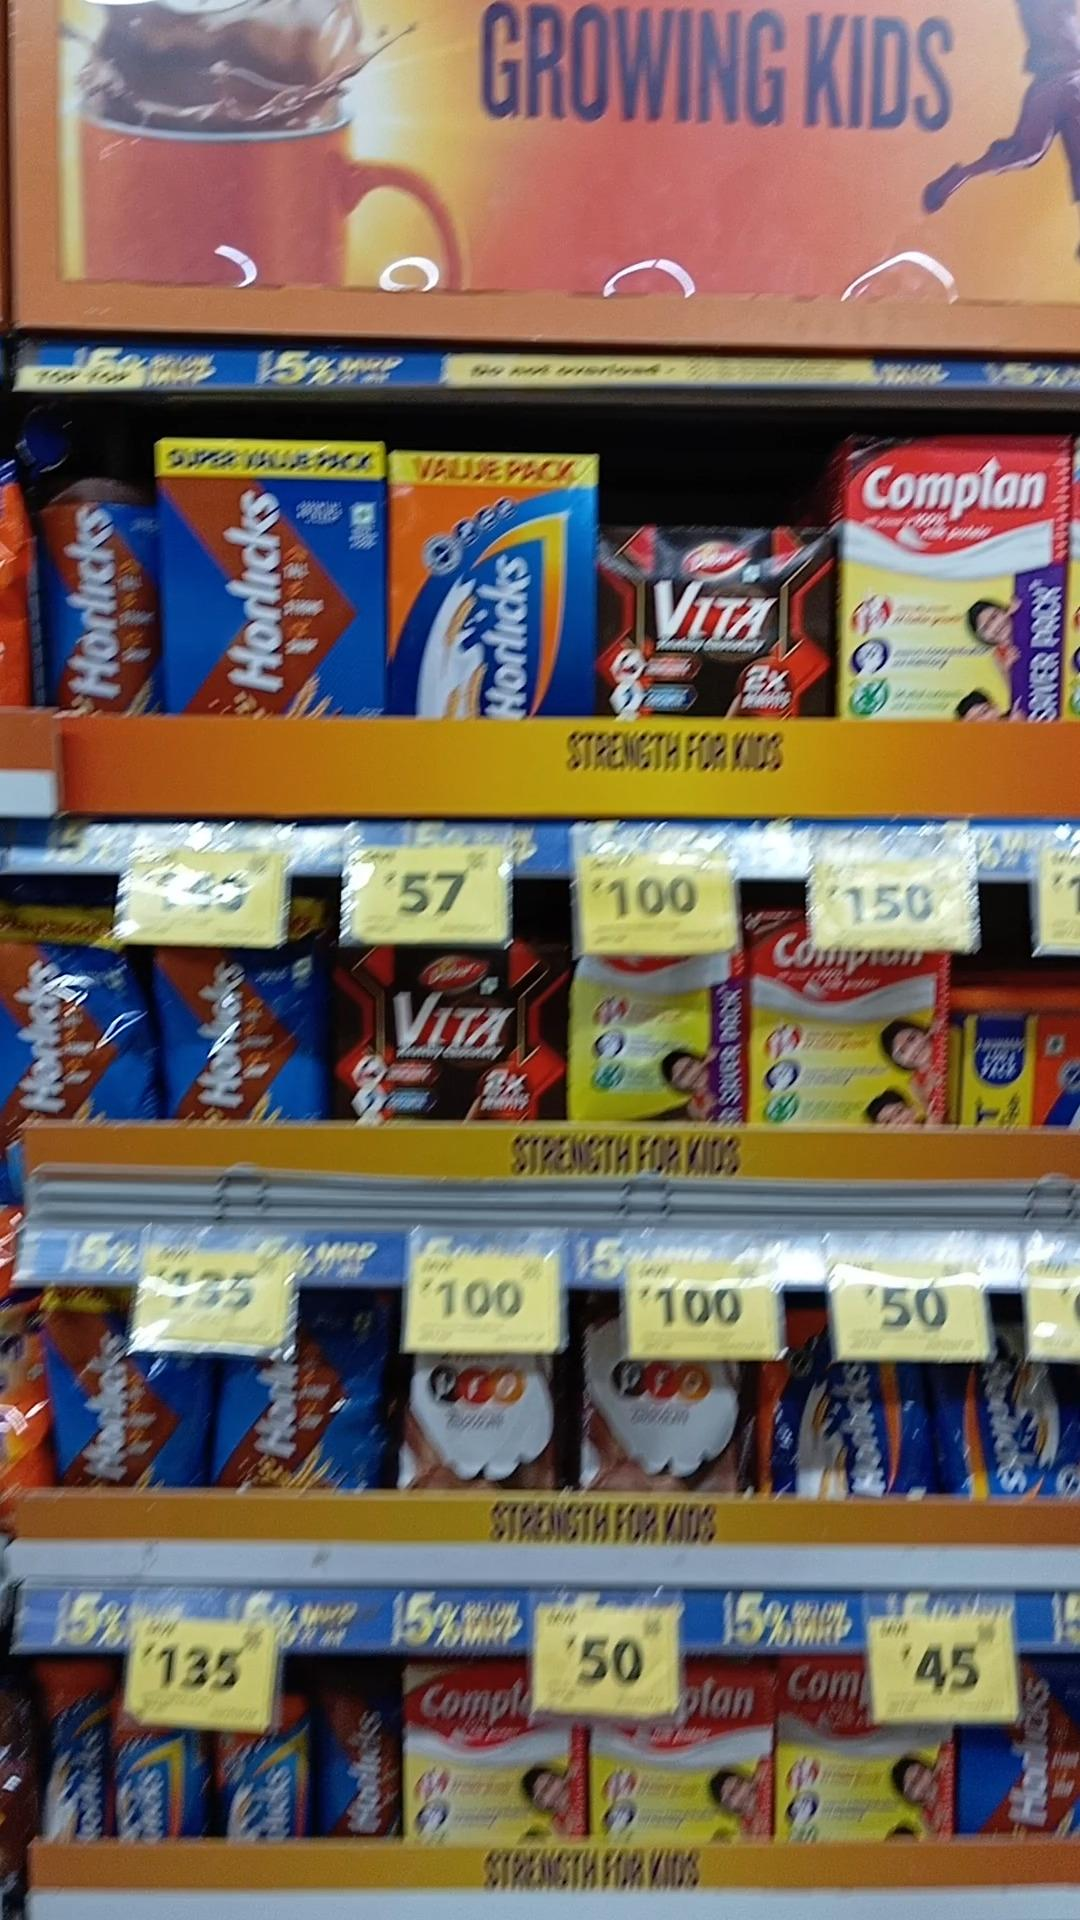COMPLAN_CHOCOLATE_1_KG_PACK: (845, 438, 1080, 725), (753, 910, 949, 1137)
HORLICK_CHOCOLATE_1_KG_JAR: (38, 467, 156, 716)
HORLICK_CHOCOLATE_1_KG_PACK: (162, 446, 378, 720)
HORLICK_CHOCOLATE_500_G_PACK: (0, 885, 131, 1130), (41, 1284, 191, 1490)
